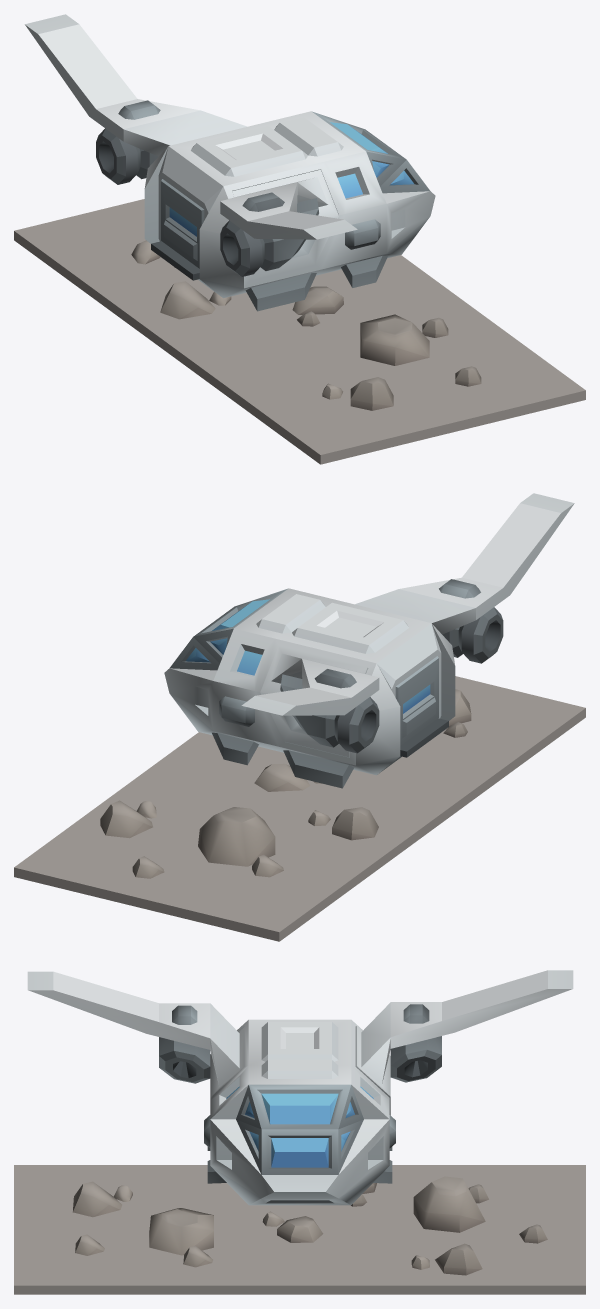
File: spaceship.glb
3 renders of one model, top to bottom at view 1: azimuth 30°, elevation 25°; view 2: azimuth 150°, elevation 25°; view 3: azimuth 270°, elevation 25°, orthographic. The views are drawn at different scales.
Parts seen in each view (by area): view 1: Spaceship; view 2: Spaceship; view 3: Spaceship.
Part boxes in pixels (<box>): Spaceship: <box>14,14,585,464</box>; Spaceship: <box>14,493,585,941</box>; Spaceship: <box>14,970,585,1294</box>.
Size of the model in its own units: 0.29 by 0.2298 by 0.58.
Materials: 1 (1 with a texture image).
